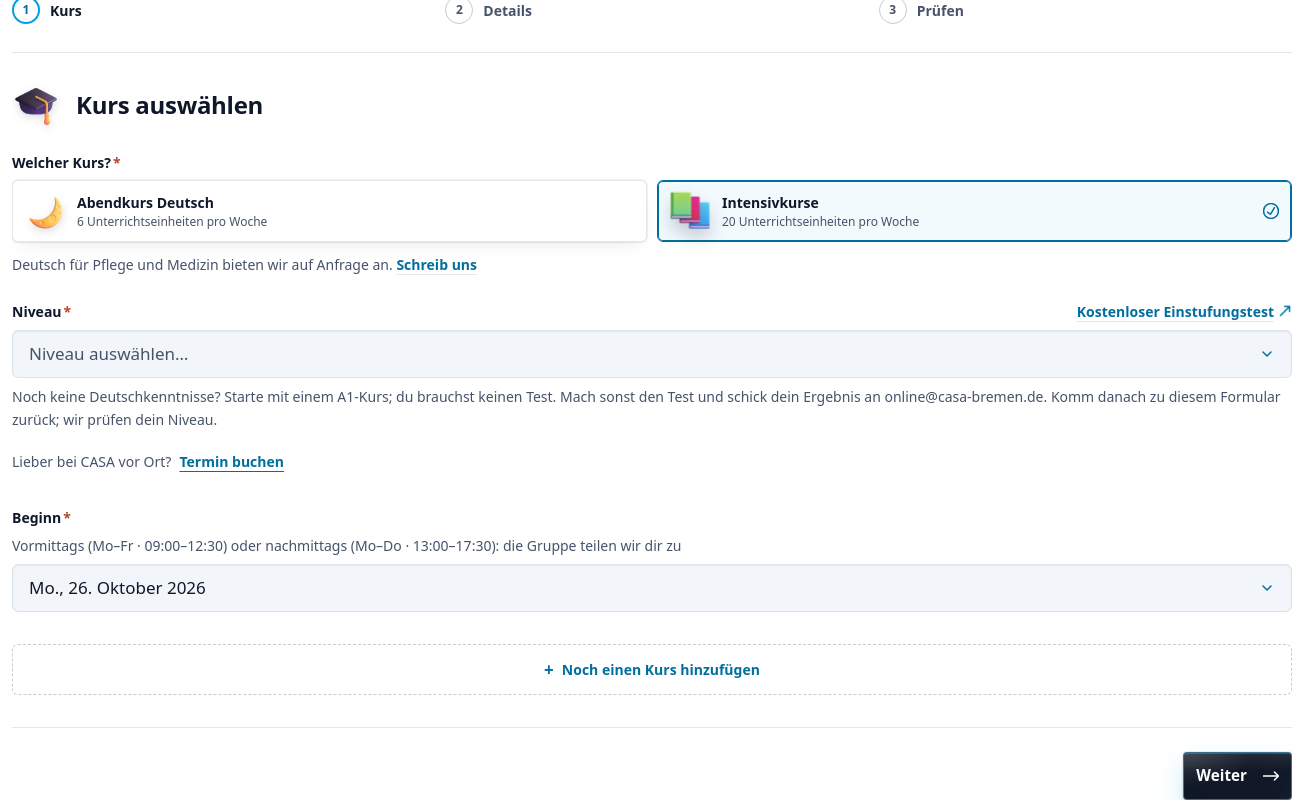
Scenario: course registration wizard, several courses and an exam (2026-10-05) › asks the intensive course for a level before step 2, and moves focus there
The width and height of the screenshot is (1304, 800).
(page scrolled)
What coordinates should you click on to do the following:
click the button "Weiter"
I would click on:
 (1238, 776)
Its box is [1183,752,1292,799].
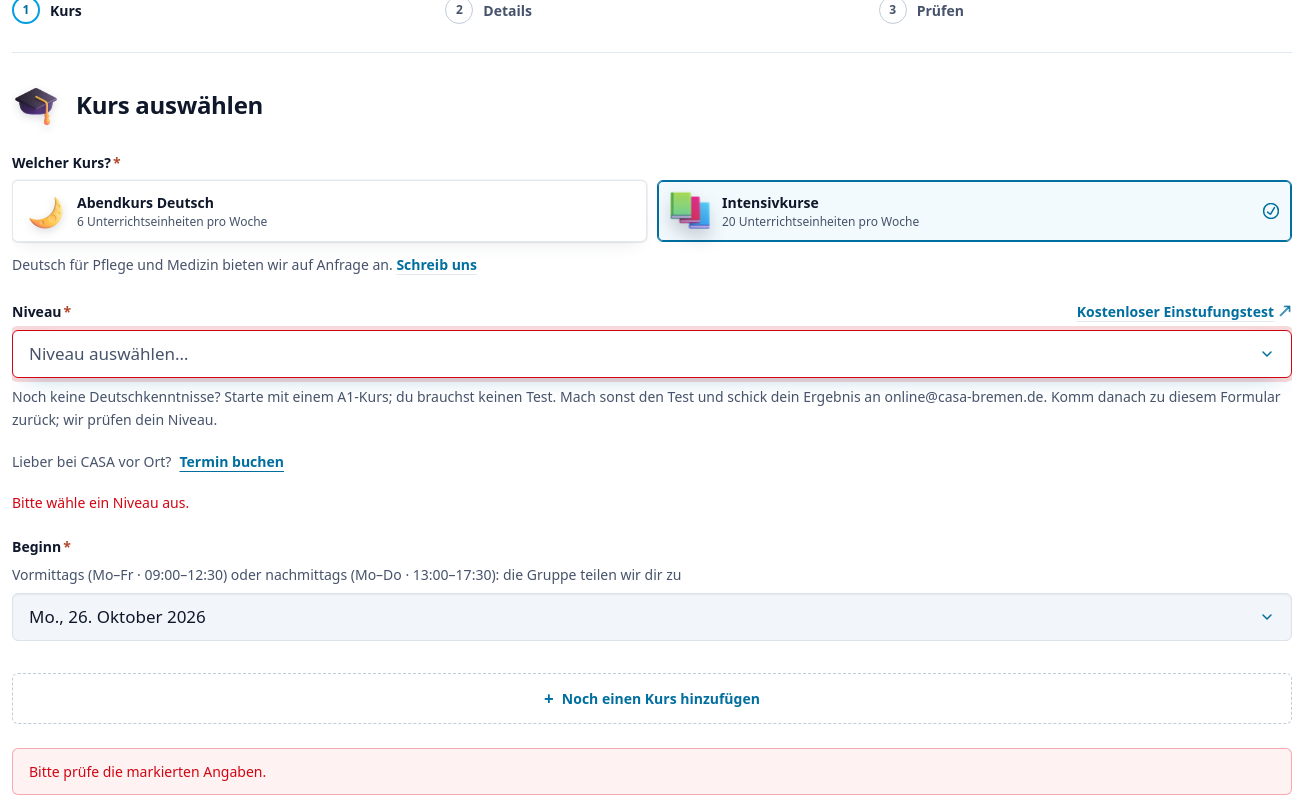
Expected: the heading "Kurs auswählen" is shown, [76,90,263,120]
Expected: the text with id "course-0-level-error" reads "Bitte wähle ein Niveau aus.", [12,492,189,512]
